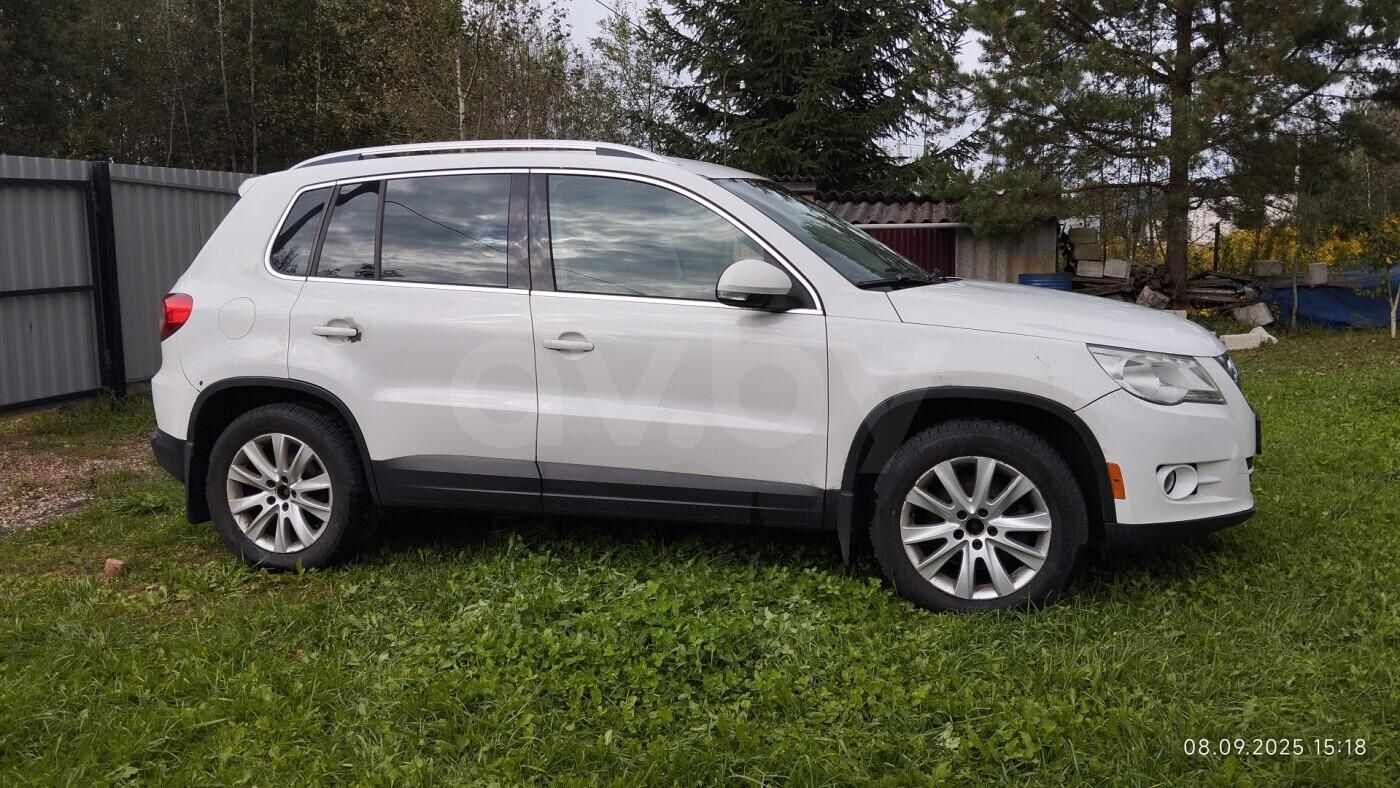Tiguan_2007-2011: (149, 140, 1260, 606)
